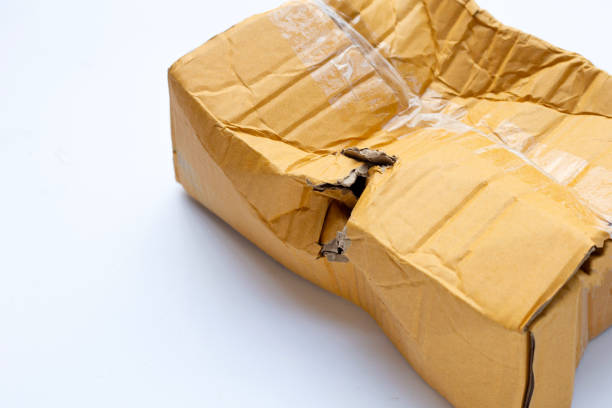damaged package: (514, 224, 608, 405), (301, 127, 418, 266)
